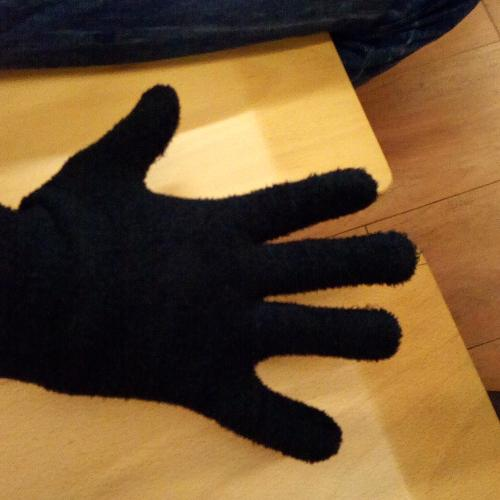paper: (13, 77, 429, 466)
